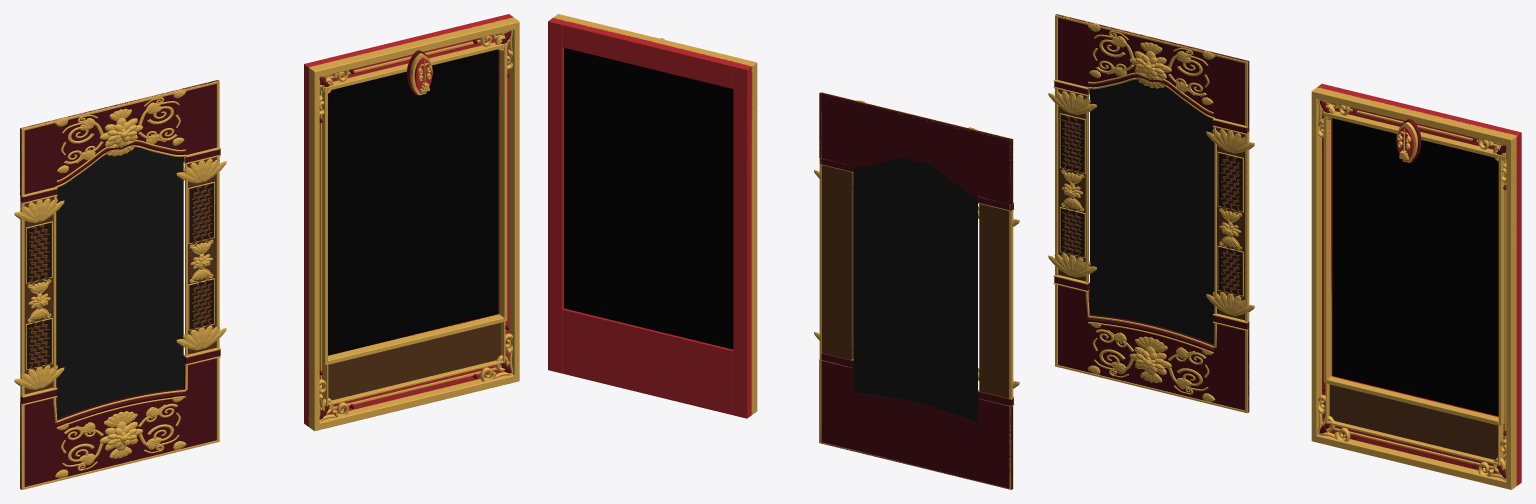
Rendered from frame.fbx.
The picture shows the model from 3 angles, left to right: view 1: azimuth 30°, elevation 25°; view 2: azimuth 150°, elevation 25°; view 3: azimuth 330°, elevation 25°; orthographic projection. The views are drawn at different scales.
Parts seen in each view (by area): view 1: BG_Plaque_Blank.001, BB_Screen, BG_OuterRim, BB_BasePanel, BB_HeaderPanel, BG_WindowLip, BG_Plate, BG_Plaque_Blank, BB_OuterTrim, BB_ColumnOrnaments, BB_HeaderRosette, BB_HeaderRosette.001 (+16 smaller); view 2: BG_Plaque_Blank.001, BB_Screen, BG_Plate, BB_BasePanel, BB_HeaderPanel, BB_ColumnR, BB_ColumnL, BG_OuterRim, BB_OuterTrim, BB_MouldingsMaroon; view 3: BG_Plaque_Blank.001, BB_Screen, BG_OuterRim, BB_BasePanel, BB_HeaderPanel, BG_WindowLip, BG_Plate, BG_Plaque_Blank, BB_ColumnOrnaments, BB_OuterTrim, BB_HeaderRosette, BB_GoldLip (+16 smaller).
Part boxes in pixels (x1=…): BG_Plaque_Blank.001: x1=328, y1=49, x2=498, y2=355; BB_Screen: x1=56, y1=147, x2=183, y2=418; BG_OuterRim: x1=308, y1=17, x2=519, y2=430; BB_BasePanel: x1=20, y1=358, x2=216, y2=489; BB_HeaderPanel: x1=20, y1=80, x2=218, y2=195; BG_WindowLip: x1=322, y1=42, x2=507, y2=365; BG_Plate: x1=304, y1=14, x2=513, y2=426; BG_Plaque_Blank: x1=328, y1=323, x2=500, y2=400; BB_OuterTrim: x1=20, y1=80, x2=219, y2=489; BB_ColumnOrnaments: x1=14, y1=158, x2=226, y2=389; BB_HeaderRosette: x1=55, y1=396, x2=186, y2=478; BB_HeaderRosette.001: x1=55, y1=89, x2=186, y2=173; BG_Plaque_Blank.001: x1=564, y1=48, x2=733, y2=349; BB_Screen: x1=853, y1=157, x2=977, y2=422; BG_Plate: x1=548, y1=17, x2=752, y2=418; BB_BasePanel: x1=819, y1=359, x2=1012, y2=489; BB_HeaderPanel: x1=819, y1=92, x2=1012, y2=205; BB_ColumnR: x1=822, y1=165, x2=852, y2=359; BB_ColumnL: x1=979, y1=203, x2=1008, y2=398; BG_OuterRim: x1=553, y1=14, x2=757, y2=414; BB_OuterTrim: x1=819, y1=92, x2=1013, y2=489; BB_MouldingsMaroon: x1=819, y1=159, x2=1013, y2=405; BG_Plaque_Blank.001: x1=1332, y1=118, x2=1498, y2=416; BB_Screen: x1=1090, y1=79, x2=1214, y2=344; BG_OuterRim: x1=1311, y1=87, x2=1516, y2=489; BB_BasePanel: x1=1058, y1=285, x2=1249, y2=412; BB_HeaderPanel: x1=1055, y1=14, x2=1249, y2=126; BG_WindowLip: x1=1323, y1=111, x2=1504, y2=425; BG_Plate: x1=1317, y1=83, x2=1521, y2=485; BG_Plaque_Blank: x1=1329, y1=384, x2=1497, y2=459; BB_ColumnOrnaments: x1=1048, y1=90, x2=1254, y2=315; BB_OuterTrim: x1=1055, y1=14, x2=1249, y2=413; BB_HeaderRosette: x1=1087, y1=322, x2=1214, y2=401; BB_GoldLip: x1=1085, y1=78, x2=1216, y2=348.
Bounding box in the file's own units: 1362 × 960 × 126.
